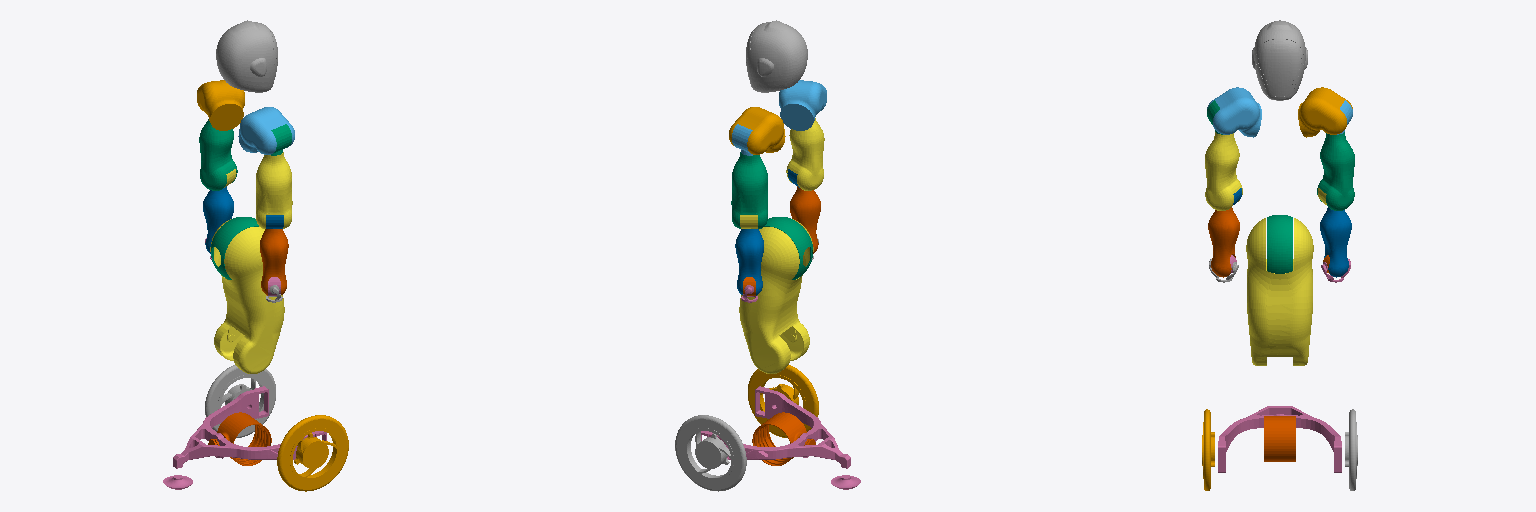
--- What the picture shows (computed from the rendered views, not written in the file) ---
The picture shows the robot from 3 angles, left to right: view 1: azimuth 30°, elevation 25°; view 2: azimuth 150°, elevation 25°; view 3: azimuth 270°, elevation 25°; orthographic projection.
Robot: Eve_base — 24 links, 23 joints (21 revolute, 2 fixed); root link base; default pose: joints at zero except 2 at the middle of their limits (j_r_shoulder_z = 1.09, j_l_shoulder_z = -1.09).
Links seen in each view (by area): view 1: thigh, r_wheel, head, base, r_upper_arm, l_wheel, l_upper_arm, l_scapula, r_scapula, r_lower_arm, ankle_y_link, l_lower_arm (+1 smaller); view 2: thigh, l_wheel, head, base, l_upper_arm, r_wheel, r_upper_arm, r_scapula, l_scapula, l_lower_arm, ankle_y_link, r_lower_arm (+1 smaller); view 3: thigh, head, l_upper_arm, r_upper_arm, base, r_scapula, l_scapula, r_lower_arm, l_lower_arm, hip_x_link, ankle_y_link, l_wheel (+1 smaller).
Boxes of the visible links, left/top/right/bottom form: thigh: left=210, top=219, right=284, bottom=373; r_wheel: left=277, top=415, right=348, bottom=491; head: left=216, top=20, right=277, bottom=92; base: left=163, top=386, right=326, bottom=489; r_upper_arm: left=256, top=152, right=292, bottom=228; l_wheel: left=205, top=365, right=275, bottom=437; l_upper_arm: left=199, top=119, right=237, bottom=190; l_scapula: left=197, top=80, right=244, bottom=130; r_scapula: left=238, top=107, right=294, bottom=154; r_lower_arm: left=260, top=229, right=288, bottom=295; ankle_y_link: left=208, top=412, right=271, bottom=465; l_lower_arm: left=203, top=186, right=233, bottom=253; thigh: left=739, top=219, right=813, bottom=373; l_wheel: left=675, top=415, right=746, bottom=491; head: left=746, top=20, right=807, bottom=92; base: left=701, top=386, right=860, bottom=489; l_upper_arm: left=731, top=152, right=767, bottom=228; r_wheel: left=748, top=365, right=818, bottom=437; r_upper_arm: left=786, top=118, right=824, bottom=190; r_scapula: left=779, top=80, right=826, bottom=130; l_scapula: left=729, top=107, right=785, bottom=154; l_lower_arm: left=735, top=229, right=763, bottom=295; ankle_y_link: left=752, top=412, right=815, bottom=465; r_lower_arm: left=790, top=186, right=820, bottom=253; thigh: left=1246, top=218, right=1313, bottom=365; head: left=1252, top=20, right=1307, bottom=100; l_upper_arm: left=1317, top=132, right=1354, bottom=210; r_upper_arm: left=1205, top=132, right=1242, bottom=210; base: left=1218, top=406, right=1341, bottom=472; r_scapula: left=1207, top=87, right=1261, bottom=137; l_scapula: left=1298, top=87, right=1352, bottom=137; r_lower_arm: left=1208, top=207, right=1239, bottom=277; l_lower_arm: left=1320, top=207, right=1351, bottom=277; hip_x_link: left=1267, top=215, right=1292, bottom=273; ankle_y_link: left=1264, top=416, right=1295, bottom=461; l_wheel: left=1345, top=409, right=1357, bottom=490.
Bounding box of the posed robot: 0.6336 × 0.5797 × 1.84 m (x, y, z).
Meshes: 16 distinct files referenced, 21 mesh visuals loaded (13 OBJ); not drawn: 3 (reference not matched to a file when rendering).

The robot description file, URDF, robot "Eve_base":
<?xml version="1.0" encoding="UTF-8" standalone="yes"?>
<robot xmlns:ns2="http://www.ros.org" xmlns:xi="http://www.w3.org/2003/XInclude" name="Eve_base">

  <link name="pelvis">
    <inertial>
      <origin xyz="-0.01035145 -0.00576441 0.41289202" rpy="0.0 0.0 0.0"/>
      <mass value="10.11628645"/>
      <inertia ixx="0.16934147" ixy="1.49E-4" ixz="0.00652485" iyy="0.1566806" iyz="-0.00748297" izz="0.05486492"/>
    </inertial>
    <visual>
      <origin xyz="0.0 0.0 0.0" rpy="1.5707963 0.0 1.5707963"/>
      <geometry>
        <mesh filename="package://eve/meshes/7dof_torso.obj" scale="1 1 1"/>
      </geometry>
    </visual>
    <collision>
      <origin xyz="0.0 0.0 0.0" rpy="1.5707963 0.0 1.5707963"/>
      <geometry>
        <sphere radius="0.12"/>
      </geometry>
    </collision>
  </link>
  <joint name="j_hip_z" type="revolute">
    <origin xyz="0.0 0.0 0.0" rpy="0.0 0.0 0.0"/>
    <parent link="abdomen"/>
    <child link="pelvis"/>
    <axis xyz="0.0 0.0 -1.0"/>
    <limit lower="-1.0472" upper="1.0472" effort="-1.0" velocity="1.0"/>
  </joint>
  <transmission name="j_hip_z_trans">
	  <type>SimpleTransmission</type>
	  <joint name="j_hip_z">
	    <hardwareInterface>EffortJointInterface</hardwareInterface>
	  </joint>
	  <actuator name="j_hip_z_actuator">
	  </actuator>
  </transmission>
  <gazebo reference="pelvis">
    <sensor name="imu_sensor" type="imu">
      <always_on>1</always_on>
      <update_rate>1000</update_rate>
      <imu>
        <noise>
          <type>gaussian</type>
          <rate>
            <mean>0</mean>
            <stddev>0.0002</stddev>
            <bias_mean>7.5e-06</bias_mean>
            <bias_stddev>8e-07</bias_stddev>
          </rate>
          <accel>
            <mean>0</mean>
            <stddev>0.017</stddev>
            <bias_mean>0.1</bias_mean>
            <bias_stddev>0.001</bias_stddev>
          </accel>
        </noise>
      </imu>
      <pose frame="">0.0 0.0 0.142 0 0.0 0</pose>
    </sensor>
  </gazebo>

  <link name="abdomen">
    <inertial>
      <origin xyz="-0.05558735 0.00156974 0.13110756" rpy="0.0 0.0 0.0"/>
      <mass value="3.4381772"/>
      <inertia ixx="0.05607222" ixy="7.0118E-4" ixz="-0.01468099" iyy="0.05435718" iyz="-0.00188443" izz="0.02016737"/>
    </inertial>
    <visual>
      <origin xyz="0.0 0.0 0.0" rpy="1.5707963 0.0 1.5707963"/>
      <geometry>
        <mesh filename="package://eve/meshes/abdomen.obj" scale="1 1 1"/>
      </geometry>
    </visual>
  </link>
  <joint name="j_hip_x" type="revolute">
    <origin xyz="0.0 0.0 0.0" rpy="0.0 0.0 0.0"/>
    <parent link="hip_x_link"/>
    <child link="abdomen"/>
    <axis xyz="1.0 0.0 0.0"/>
    <limit lower="-0.523599" upper="0.523599" effort="-1.0" velocity="1.0"/>
  </joint>
  <transmission name="j_hip_x_trans">
    <type>SimpleTransmission</type>
    <joint name="j_hip_x">
      <hardwareInterface>EffortJointInterface</hardwareInterface>
    </joint>
    <actuator name="j_hip_x_actuator">
    </actuator>
  </transmission>
  <link name="hip_x_link">
    <inertial>
      <origin xyz="-0.013462 -0.001267 -7.7E-5" rpy="0.0 0.0 0.0"/>
      <mass value="2.868669"/>
      <inertia ixx="0.013678" ixy="5.6E-5" ixz="-7.6E-4" iyy="0.014884" iyz="1.4E-5" izz="0.016484"/>
    </inertial>
    <visual>
      <origin xyz="0.0 0.0 0.0" rpy="1.5707963 0.0 1.5707963"/>
      <geometry>
        <mesh filename="package://eve/meshes/hip.obj" scale="1 1 1"/>
      </geometry>
    </visual>
  </link>
  <joint name="j_hip_y" type="revolute">
    <origin xyz="0.0 0.0 0.4" rpy="0.0 0.0 0.0"/>
    <parent link="thigh"/>
    <child link="hip_x_link"/>
    <axis xyz="0.0 1.0 0.0"/>
    <limit lower="-1.57" upper="0.174533" effort="-1.0" velocity="1.0"/>
  </joint>
  <transmission name="j_hip_y_trans">
    <type>SimpleTransmission</type>
    <joint name="j_hip_y">
      <hardwareInterface>EffortJointInterface</hardwareInterface>
    </joint>
    <actuator name="j_hip_y_actuator">
    </actuator>
  </transmission>
  <link name="thigh">
    <inertial>
      <!-- <origin xyz="0.048668 0.002117 -0.216367" rpy="0.0 0.0 0.0"/> -->
      <origin xyz="0.048668 0.002117 0.183633" rpy="0.0 0.0 0.0"/>
      <mass value="12.846698"/>
      <inertia ixx="0.172201" ixy="-0.001348" ixz="0.012646" iyy="0.155119" iyz="-6.0E-4" izz="0.076153"/>
    </inertial>
    <visual>
      <origin xyz="0.0 0.0 0.4" rpy="1.5707963 0.0 1.5707963"/>
      <geometry>
        <mesh filename="package://eve/meshes/thigh.obj" scale="1 1 1"/>
      </geometry>
    </visual>
  </link>
  <joint name="j_knee_y" type="revolute">
    <!-- <origin xyz="0.0 0.0 -0.4" rpy="0.0 0.0 0.0"/> -->
    <origin xyz="0.0 0.0 0.38" rpy="0.0 0.0 0.0"/>
    <parent link="shin"/>
    <child link="thigh"/>
    <axis xyz="0.0 1.0 0.0"/>
    <limit lower="0.0" upper="2.583" effort="-1.0" velocity="1.0"/>
  </joint>
  <transmission name="j_knee_y_trans">
    <type>SimpleTransmission</type>
    <joint name="j_knee_y">
      <hardwareInterface>EffortJointInterface</hardwareInterface>
    </joint>
    <actuator name="j_knee_y_actuator">
    </actuator>
  </transmission>
  <link name="shin">
    <inertial>
      <!-- <origin xyz="0.019484 6.7E-5 -0.167324" rpy="0.0 0.0 0.0"/> -->
      <origin xyz="0.019484 6.7E-5 0.212676" rpy="0.0 0.0 0.0"/>
      <mass value="10.894892"/>
      <inertia ixx="0.191988" ixy="-2.08E-4" ixz="0.005202" iyy="0.176793" iyz="-3.45E-4" izz="0.049718"/>
    </inertial>
    <visual>
      <origin xyz="0.0 0.0 0.38" rpy="1.5707963 0.0 1.5707963"/>
      <geometry>
        <mesh filename="package://eve/meshes/shin.obj" scale="1 1 1"/>
      </geometry>
    </visual>
  </link>
  <joint name="j_ankle_y" type="revolute">
    <!-- <origin xyz="0.0 0.0 -0.38" rpy="0.0 0.0 0.0"/> -->
    <origin xyz="0.0 0.0 0.0" rpy="0.0 0.0 0.0"/>
    <parent link="ankle_y_link"/>
    <child link="shin"/>
    <axis xyz="0.0 1.0 0.0"/>
    <limit lower="-0.174533" upper="1.57" effort="1.0" velocity="1.0"/>
  </joint>
  <transmission name="j_ankle_y_trans">
    <type>SimpleTransmission</type>
    <joint name="j_ankle_y">
      <hardwareInterface>EffortJointInterface</hardwareInterface>
    </joint>
    <actuator name="j_ankle_y_actuator">
    </actuator>
  </transmission>
  <link name="ankle_y_link">
    <inertial>
      <origin xyz="-0.017821 0.001497 -6.49E-4" rpy="0.0 0.0 0.0"/>
      <mass value="2.656189"/>
      <inertia ixx="0.010249" ixy="-8.2E-5" ixz="2.65E-4" iyy="0.009117" iyz="9.0E-6" izz="0.013843"/>
    </inertial>
    <visual>
      <origin xyz="0.0 0.0 0.0" rpy="1.5707963 0.0 1.5707963"/>
      <geometry>
        <mesh filename="package://eve/meshes/ankle.obj" scale="1 1 1"/>
      </geometry>
    </visual>
  </link>
  <joint name="j_ankle_x" type="revolute">
    <origin xyz="0.0 0.0 0.0" rpy="0.0 0.0 0.0"/>
    <parent link="base"/>
    <child link="ankle_y_link"/>
    <axis xyz="1.0 0.0 0.0"/>
    <limit lower="-0.523599" upper="0.523599" effort="1.0" velocity="1.0"/>
  </joint>
  <transmission name="j_ankle_x_trans">
    <type>SimpleTransmission</type>
    <joint name="j_ankle_x">
      <hardwareInterface>EffortJointInterface</hardwareInterface>
    </joint>
    <actuator name="j_ankle_x_actuator">
    </actuator>
  </transmission>
  <link name="base">
    <inertial>
      <origin xyz="0.021997 0.006327 -0.006204" rpy="0.0 0.0 0.0"/>
      <mass value="13.647499"/>
      <inertia ixx="0.461101" ixy="-0.004042" ixz="-0.020010" iyy="0.246583" iyz="-0.000110" izz="0.679520"/>
    </inertial>
    <visual>
      <origin xyz="0.0 0.0 0.0" rpy="1.5707963 0.0 1.5707963"/>
      <geometry>
        <mesh filename="package://eve/meshes/base_wheels.obj" scale="1 1 1"/>
        <!-- <box size=".5 .15 .5" /> -->
      </geometry>
    </visual>
    <collision>
      <origin xyz="-0.28 0.0 -0.08" rpy="1.5707963 0.0 1.5707963"/>
      <geometry>
        <sphere radius="0.05"/>
      </geometry>
    </collision>
    <collision>
      <origin xyz="0.0 0.0 0.0" rpy="1.5707963 0.0 1.5707963"/>
      <geometry>
        <!-- <mesh filename="package://eve/meshes/base_wheels.obj" scale="1 1 1"/> -->
        <box size=".4 .15 .6" />
      </geometry>
    </collision>
  </link>


  <joint name="j_l_wheel_y" type="fixed">
    <origin xyz="0.142 0.26983 0.019" rpy="0.0 0.0 0.0"/>
    <parent link="base"/>
    <child link="l_wheel"/>
    <axis xyz="0.0 1.0 0.0"/>
    <limit lower="-1.0E16" upper="1.0E16" effort="-1.0" velocity="1.0"/>
  </joint>
<!--  <transmission name="j_l_wheel_y_trans">-->
<!--    <type>SimpleTransmission</type>-->
<!--    <joint name="j_l_wheel_y">-->
<!--      <hardwareInterface>EffortJointInterface</hardwareInterface>-->
<!--    </joint>-->
<!--    <actuator name="j_l_wheel_y_actuator">-->
<!--    </actuator>-->
<!--  </transmission>-->
  <link name="l_wheel">
    <inertial>
      <origin xyz="0.0 0.0 0.0" rpy="0.0 0.0 0.0"/>
      <mass value="1.52693"/>
      <inertia ixx="0.007129" ixy="-0.0" ixz="-0.0" iyy="0.013685" iyz="-0.0" izz="0.007131"/>
    </inertial>
    <visual>
      <origin xyz="0.0 0.0 0.0" rpy="1.5707963 0.0 -1.5707963"/>
      <geometry>
        <mesh filename="package://eve/meshes/wheel.obj" scale="1 1 1"/>
        <!-- <cylinder length="0.02" radius="0.14"/> -->
      </geometry>
    </visual>
    <collision>
      <origin xyz="0.0 0.0 0.0" rpy="1.5707963 0.0 0.0"/>
      <geometry>
        <!-- <mesh filename="package://eve/meshes/wheel.obj" scale="1 1 1"/> -->
        <cylinder length="0.02" radius="0.14"/>
      </geometry>
    </collision>
  </link>
  <joint name="j_r_wheel_y" type="fixed">
    <origin xyz="0.142 -0.26983 0.019" rpy="0.0 0.0 0.0"/>
    <parent link="base"/>
    <child link="r_wheel"/>
    <axis xyz="0.0 1.0 0.0"/>
    <limit lower="-1.0E16" upper="1.0E16" effort="-1.0" velocity="1.0"/>
  </joint>
<!--  <transmission name="j_r_wheel_y_trans">-->
<!--    <type>SimpleTransmission</type>-->
<!--    <joint name="j_r_wheel_y">-->
<!--      <hardwareInterface>EffortJointInterface</hardwareInterface>-->
<!--    </joint>-->
<!--    <actuator name="j_r_wheel_y_actuator">-->
<!--    </actuator>-->
<!--  </transmission>-->
  <link name="r_wheel">
    <inertial>
      <origin xyz="0.0 0.0 0.0" rpy="0.0 0.0 0.0"/>
      <mass value="1.52693"/>
      <inertia ixx="0.007129" ixy="-0.0" ixz="-0.0" iyy="0.013685" iyz="-0.0" izz="0.007131"/>
    </inertial>
    <visual>
      <origin xyz="0.0 0.0 0.0" rpy="1.5707963 0.0 1.5707963"/>
      <geometry>
        <mesh filename="package://eve/meshes/wheel.obj" scale="1 1 1"/>
        <!-- <cylinder length="0.02" radius="0.14"/> -->
      </geometry>
    </visual>
    <collision>
      <origin xyz="0.0 0.0 0.0" rpy="1.5707963 0.0 0.0"/>
      <geometry>
        <cylinder length="0.02" radius="0.14"/>
        <!-- <mesh filename="package://eve/meshes/wheel.obj" scale="1 1 1"/> -->
      </geometry>
    </collision>
  </link>



  <joint name="j_r_shoulder_y" type="revolute">
    <origin xyz="0.010525 -0.207221 0.545525" rpy="-0.253261563 0.0 0.261799"/>
    <parent link="pelvis"/>
    <child link="r_scapula"/>
    <axis xyz="0.0 1.0 0.0"/>
    <limit lower="-2.4240878" upper="0.981049573" effort="-1.0" velocity="1.0"/>
  </joint>
  <transmission name="j_r_shoulder_y_trans">
    <type>SimpleTransmission</type>
    <joint name="j_r_shoulder_y">
      <hardwareInterface>EffortJointInterface</hardwareInterface>
    </joint>
    <actuator name="j_r_shoulder_y_actuator">
    </actuator>
  </transmission>
  <link name="r_scapula">
    <inertial>
      <origin xyz="6.1099E-4 0.06306661 0.03032448" rpy="0.0 0.0 0.0"/>
      <mass value="2.75566786"/>
      <inertia ixx="0.00936557" ixy="2.264E-5" ixz="-7.112E-5" iyy="0.01079015" iyz="8.423E-4" izz="0.01267759"/>
    </inertial>
    <visual>
      <origin xyz="0.0 0.0 0.0" rpy="1.5707963 1.5707963 0.0"/>
      <geometry>
        <mesh filename="../meshes/7dof_scapula.obj" scale="1 1 1"/>
      </geometry>
    </visual>
  </link>
  <joint name="j_r_shoulder_x" type="revolute">
    <origin xyz="0.0 0.0 0.0" rpy="0.253261563 0.0 0.0"/>
    <parent link="r_scapula"/>
    <child link="r_shoulder"/>
    <axis xyz="1.0 0.0 0.0"/>
    <limit lower="-2.0943951" upper="0.0872665" effort="-1.0" velocity="1.0"/>
  </joint>
  <transmission name="j_r_shoulder_x_trans">
    <type>SimpleTransmission</type>
    <joint name="j_r_shoulder_x">
      <hardwareInterface>EffortJointInterface</hardwareInterface>
    </joint>
    <actuator name="j_r_shoulder_x_actuator">
    </actuator>
  </transmission>
  <link name="r_shoulder">
    <inertial>
      <origin xyz="0.0 -7.0614E-4 -0.01975465" rpy="0.0 0.0 0.0"/>
      <mass value="0.70264272"/>
      <inertia ixx="0.00115475" ixy="-3.2E-7" ixz="-1.4E-7" iyy="0.00143713" iyz="2.63E-6" izz="9.4633E-4"/>
    </inertial>
    <visual>
      <origin xyz="0.0 0.0 0.0" rpy="1.5708 0 0"/>
      <geometry>
        <mesh filename="../meshes/7dof_shoulder.obj" scale="1 1 1"/>
      </geometry>
    </visual>
  </link>
  <joint name="j_r_shoulder_z" type="revolute">
    <origin xyz="0.0 0.0 0.0" rpy="0.0 0.0 -0.261799"/>
    <parent link="r_shoulder"/>
    <child link="r_upper_arm"/>
    <axis xyz="0.0 0.0 1.0"/>
    <limit lower="0.0872665" upper="2.0943951" effort="-1.0" velocity="1.0"/>
  </joint>
  <transmission name="j_r_shoulder_z_trans">
    <type>SimpleTransmission</type>
    <joint name="j_r_shoulder_z">
      <hardwareInterface>EffortJointInterface</hardwareInterface>
    </joint>
    <actuator name="j_r_shoulder_z_actuator">
    </actuator>
  </transmission>
  <link name="r_upper_arm">
    <inertial>
      <origin xyz="-0.0062579 3.507E-5 -0.17187666" rpy="0.0 0.0 0.0"/>
      <mass value="2.92531724"/>
      <inertia ixx="0.01341653" ixy="-6.4E-7" ixz="-2.9063E-4" iyy="0.01287847" iyz="-3.08E-6" izz="0.00487381"/>
    </inertial>
    <visual>
      <origin xyz="0.0 0.0 -0.314" rpy="1.5707963 0.0 1.5707963"/>
      <geometry>
        <mesh filename="../meshes/7dof_upper_arm.obj" scale="1 1 1"/>
      </geometry>
    </visual>
  </link>
  <joint name="j_r_elbow_y" type="revolute">
    <origin xyz="0.0 0.0 -0.313989" rpy="0.0 0.0 0.0"/>
    <parent link="r_upper_arm"/>
    <child link="r_elbow"/>
    <axis xyz="0.0 1 0.0"/>
    <limit lower="-2.18166" upper="0.0" effort="-1.0" velocity="1.0"/>
  </joint>
  <transmission name="j_r_elbow_y_trans">
    <type>SimpleTransmission</type>
    <joint name="j_r_elbow_y">
      <hardwareInterface>EffortJointInterface</hardwareInterface>
    </joint>
    <actuator name="j_r_elbow_y_actuator">
    </actuator>
  </transmission>
  <link name="r_elbow">
    <inertial>
      <origin xyz="5.494E-5 0.0 -0.00888504" rpy="0.0 0.0 0.0"/>
      <mass value="0.46261553"/>
      <inertia ixx="8.227E-4" ixy="-0.0" ixz="9.6E-7" iyy="3.6441E-4" iyz="-0.0" izz="6.1472E-4"/>
    </inertial>
    <visual>
      <origin xyz="0.0 0.0 0.0" rpy="1.5707963 0.0 1.5707963"/>
      <geometry>
        <mesh filename="../meshes/7dof_elbow.obj" scale="1 1 1"/>
      </geometry>
    </visual>
    <collision>
      <origin xyz="0.0 0.0 0.0" rpy="1.5707963 0.0 1.5707963"/>
      <geometry>
        <sphere radius="0.07"/>
      </geometry>
    </collision>
  </link>
  <joint name="j_r_elbow_z" type="revolute">
    <origin xyz="0.0 0.0 0.0" rpy="0.0 0.0 0.0"/>
    <parent link="r_elbow"/>
    <child link="r_lower_arm"/>
    <axis xyz="0.0 0.0 1"/>
    <limit lower="-0.7854" upper="1.5708" effort="-1.0" velocity="1.0"/>
  </joint>
  <transmission name="j_r_elbow_z_trans">
    <type>SimpleTransmission</type>
    <joint name="j_r_elbow_z">
      <hardwareInterface>EffortJointInterface</hardwareInterface>
    </joint>
    <actuator name="j_r_elbow_z_actuator">
    </actuator>
  </transmission>
  <link name="r_lower_arm">
    <inertial>
      <origin xyz="-4.326E-5 3.091E-5 -0.13751046" rpy="0.0 0.0 0.0"/>
      <mass value="1.63933464"/>
      <inertia ixx="0.00678741" ixy="1.11E-6" ixz="-1.253E-5" iyy="0.00706746" iyz="1.485E-5" izz="0.00183806"/>
    </inertial>
    <visual>
      <origin xyz="0.0 0.0 -0.292850" rpy="1.5707963 0.0 1.5707963"/>
      <geometry>
        <mesh filename="../meshes/7dof_forearm.obj" scale="1 1 1"/>
      </geometry>
    </visual>
  </link>
  <joint name="j_r_wrist_y" type="revolute">
    <origin xyz="0.0 0.0 -0.292850" rpy="0.0 0.0 0.0"/>
    <parent link="r_lower_arm"/>
    <child link="r_wrist"/>
    <axis xyz="0.0 1 0.0"/>
    <limit lower="-0.785398" upper="0.785398" effort="-1.0" velocity="1.0"/>
  </joint>
  <transmission name="j_r_wrist_y_trans">
    <type>SimpleTransmission</type>
    <joint name="j_r_wrist_y">
      <hardwareInterface>EffortJointInterface</hardwareInterface>
    </joint>
    <actuator name="j_r_wrist_y_actuator">
    </actuator>
  </transmission>
  <link name="r_wrist">
    <inertial>
      <origin xyz="0.00240142 7.9666E-4 -0.00125392" rpy="0.0 0.0 0.0"/>
      <mass value="0.30363399"/>
      <inertia ixx="1.8188E-4" ixy="2.27E-6" ixz="-2.16E-6" iyy="1.6139E-4" iyz="-9.5E-7" izz="2.7335E-4"/>
    </inertial>
    <visual>
      <origin xyz="0.0 0.0 0.0" rpy="1.5707963 0.0 1.5707963"/>
      <geometry>
        <mesh filename="../meshes/7dof_wrist.obj" scale="1 1 1"/>
      </geometry>
    </visual>
  </link>
  <joint name="j_r_wrist_x" type="revolute">
    <origin xyz="0.0 0.0 0.0" rpy="0.0 0.0 0.0"/>
    <parent link="r_wrist"/>
    <child link="r_palm"/>
    <axis xyz="1 0.0 0.0"/>
    <limit lower="-0.523599" upper="1.5708" effort="-1.0" velocity="1.0"/>
  </joint>
  <transmission name="j_r_wrist_x_trans">
    <type>SimpleTransmission</type>
    <joint name="j_r_wrist_x">
      <hardwareInterface>EffortJointInterface</hardwareInterface>
    </joint>
    <actuator name="j_r_wrist_x_actuator">
    </actuator>
  </transmission>
  <link name="r_palm">
    <inertial>
      <origin xyz="0.00618476 -0.00346679 -0.01888817" rpy="0.0 0.0 0.0"/>
      <mass value="0.1486378"/>
      <inertia ixx="1.177E-4" ixy="-2.72E-6" ixz="-1.656E-5" iyy="2.8407E-4" iyz="-5.49E-6" izz="2.1805E-4"/>
    </inertial>
    <visual>
      <origin xyz="0.0 0.0 0.0" rpy="-1.5707963 0.0 0.0"/>
      <geometry>
        <mesh filename="../meshes/7dof_palm.obj" scale="1 1 1"/>
      </geometry>
    </visual>
    <collision>
      <origin xyz="0.0 0.0 0.0" rpy="-1.5707963 0.0 3.14159"/>
      <geometry>
        <sphere radius="0.05"/>
      </geometry>
    </collision>
  </link>


  <joint name="j_l_shoulder_y" type="revolute">
    <origin xyz="0.010525 0.207221 0.545525" rpy="0.253261563 0.0 -0.261799"/>
    <parent link="pelvis"/>
    <child link="l_scapula"/>
    <axis xyz="0.0 1.0 0.0"/>
    <limit lower="-2.4240878" upper="0.981049573" effort="-1.0" velocity="1.0"/>
  </joint>
  <transmission name="j_l_shoulder_y_trans">
    <type>SimpleTransmission</type>
    <joint name="j_l_shoulder_y">
      <hardwareInterface>EffortJointInterface</hardwareInterface>
    </joint>
    <actuator name="j_l_shoulder_y_actuator">
    </actuator>
  </transmission>
  <link name="l_scapula">
    <inertial>
      <origin xyz="-6.1099E-4 -0.06306661 0.03032448" rpy="0.0 0.0 0.0"/>
      <mass value="2.75566786"/>
      <inertia ixx="0.00936557" ixy="2.264E-5" ixz="7.112E-5" iyy="0.01079015" iyz="-8.423E-4" izz="0.01267759"/>
    </inertial>
    <visual>
      <origin xyz="0.0 0.0 0.0" rpy="0.0 1.5707963 1.5707963"/>
      <geometry>
        <mesh filename="../meshes/7dof_scapula.obj" scale="1 1 1"/>
      </geometry>
    </visual>
  </link>
  <joint name="j_l_shoulder_x" type="revolute">
    <origin xyz="0.0 0.0 0.0" rpy="-0.253261563 0.0 0.0"/>
    <parent link="l_scapula"/>
    <child link="l_shoulder"/>
    <axis xyz="1.0 0.0 0.0"/>
    <limit lower="-0.0872665" upper="2.0943951" effort="-1.0" velocity="1.0"/>
  </joint>
  <transmission name="j_l_shoulder_x_trans">
    <type>SimpleTransmission</type>
    <joint name="j_l_shoulder_x">
      <hardwareInterface>EffortJointInterface</hardwareInterface>
    </joint>
    <actuator name="j_l_shoulder_x_actuator">
    </actuator>
  </transmission>
  <link name="l_shoulder">
    <inertial>
      <origin xyz="0.0 7.0624E-4 -0.01975437" rpy="0.0 0.0 0.0"/>
      <mass value="0.70265653"/>
      <inertia ixx="0.00115475" ixy="-3.2E-7" ixz="1.3E-7" iyy="0.00143715" iyz="-2.63E-6" izz="9.4634E-4"/>
    </inertial>
    <visual>
      <origin xyz="0.0 0.0 0.0" rpy="1.5708 0.0 0.0"/>
      <geometry>
        <mesh filename="../meshes/7dof_shoulder.obj" scale="1 1 1"/>
      </geometry>
    </visual>
  </link>
  <joint name="j_l_shoulder_z" type="revolute">
    <origin xyz="0.0 0.0 0.0" rpy="0.0 0.0 0.261799"/>
    <parent link="l_shoulder"/>
    <child link="l_upper_arm"/>
    <axis xyz="0.0 0.0 1.0"/>
    <limit lower="-2.0943951" upper="-0.0872665" effort="-1.0" velocity="1.0"/>
  </joint>
  <transmission name="j_l_shoulder_z_trans">
    <type>SimpleTransmission</type>
    <joint name="j_l_shoulder_z">
      <hardwareInterface>EffortJointInterface</hardwareInterface>
    </joint>
    <actuator name="j_l_shoulder_z_actuator">
    </actuator>
  </transmission>
  <link name="l_upper_arm">
    <inertial>
      <origin xyz="-0.0062579 3.507E-5 -0.17187666" rpy="0.0 0.0 0.0"/>
      <mass value="2.92531724"/>
      <inertia ixx="0.01341653" ixy="-6.4E-7" ixz="-2.9063E-4" iyy="0.01287847" iyz="-3.08E-6" izz="0.00487381"/>
    </inertial>
    <visual>
      <origin xyz="0.0 0.0 -0.314" rpy="1.5707963 0.0 1.5707963"/>
      <geometry>
        <mesh filename="../meshes/7dof_upper_arm.obj" scale="1 1 1"/>
      </geometry>
    </visual>
  </link>
  <joint name="j_l_elbow_y" type="revolute">
    <origin xyz="0.0 0.0 -0.313989" rpy="0.0 0.0 0.0"/>
    <parent link="l_upper_arm"/>
    <child link="l_elbow"/>
    <axis xyz="0.0 1.0 0.0"/>
    <limit lower="-2.18166" upper="0.0" effort="-1.0" velocity="1.0"/>
  </joint>
  <transmission name="j_l_elbow_y_trans">
    <type>SimpleTransmission</type>
    <joint name="j_l_elbow_y">
      <hardwareInterface>EffortJointInterface</hardwareInterface>
    </joint>
    <actuator name="j_l_elbow_y_actuator">
    </actuator>
  </transmission>
  <link name="l_elbow">
    <inertial>
      <origin xyz="5.494E-5 0.0 -0.00888504" rpy="0.0 0.0 0.0"/>
      <mass value="0.46261553"/>
      <inertia ixx="8.227E-4" ixy="-0.0" ixz="9.6E-7" iyy="3.6441E-4" iyz="-0.0" izz="6.1472E-4"/>
    </inertial>
    <visual>
      <origin xyz="0.0 0.0 0.0" rpy="1.5707963 0.0 1.5707963"/>
      <geometry>
        <mesh filename="../meshes/7dof_elbow.obj" scale="1 1 1"/>
      </geometry>
    </visual>
    <collision>
      <origin xyz="0.0 0.0 0.0" rpy="1.5707963 0.0 1.5707963"/>
      <geometry>
        <sphere radius="0.07"/>
      </geometry>
    </collision>
  </link>
  <joint name="j_l_elbow_z" type="revolute">
    <origin xyz="0.0 0.0 0.0" rpy="0.0 0.0 0.0"/>
    <parent link="l_elbow"/>
    <child link="l_lower_arm"/>
    <axis xyz="0.0 0.0 1.0"/>
    <limit lower="-1.5708" upper="0.7854" effort="-1.0" velocity="1.0"/>
  </joint>
  <transmission name="j_l_elbow_z_trans">
    <type>SimpleTransmission</type>
    <joint name="j_l_elbow_z">
      <hardwareInterface>EffortJointInterface</hardwareInterface>
    </joint>
    <actuator name="j_l_elbow_z_actuator">
    </actuator>
  </transmission>
  <link name="l_lower_arm">
    <inertial>
      <origin xyz="-4.326E-5 3.091E-5 -0.13751046" rpy="0.0 0.0 0.0"/>
      <mass value="1.63933464"/>
      <inertia ixx="0.00678741" ixy="1.11E-6" ixz="-1.253E-5" iyy="0.00706746" iyz="1.485E-5" izz="0.00183806"/>
    </inertial>
    <visual>
      <origin xyz="0.0 0.0 -0.29285" rpy="1.5707963 0.0 1.5707963"/>
      <geometry>
        <mesh filename="../meshes/7dof_forearm.obj" scale="1 1 1"/>
      </geometry>
    </visual>
  </link>
  <joint name="j_l_wrist_y" type="revolute">
    <origin xyz="0.0 0.0 -0.29285" rpy="0.0 0.0 0.0"/>
    <parent link="l_lower_arm"/>
    <child link="l_wrist"/>
    <axis xyz="0.0 1.0 0.0"/>
    <limit lower="-0.785398" upper="0.785398" effort="-1.0" velocity="1.0"/>
  </joint>
  <transmission name="j_l_wrist_y_trans">
    <type>SimpleTransmission</type>
    <joint name="j_l_wrist_y">
      <hardwareInterface>EffortJointInterface</hardwareInterface>
    </joint>
    <actuator name="j_l_wrist_y_actuator">
    </actuator>
  </transmission>
  <link name="l_wrist">
    <inertial>
      <origin xyz="0.00240142 7.9666E-4 -0.00125392" rpy="0.0 0.0 0.0"/>
      <mass value="0.30363399"/>
      <inertia ixx="1.8188E-4" ixy="2.27E-6" ixz="-2.16E-6" iyy="1.6139E-4" iyz="-9.5E-7" izz="2.7335E-4"/>
    </inertial>
    <visual>
      <origin xyz="0.0 0.0 0.0" rpy="1.5707963 0.0 1.5707963"/>
      <geometry>
        <mesh filename="../meshes/7dof_wrist.obj" scale="1 1 1"/>
      </geometry>
    </visual>
  </link>
  <joint name="j_l_wrist_x" type="revolute">
    <origin xyz="0.0 0.0 0.0" rpy="0.0 0.0 0.0"/>
    <parent link="l_wrist"/>
    <child link="l_palm"/>
    <axis xyz="1.0 0.0 0.0"/>
    <limit lower="-1.5708" upper="0.523599" effort="-1.0" velocity="1.0"/>
  </joint>
  <transmission name="j_l_wrist_x_trans">
    <type>SimpleTransmission</type>
    <joint name="j_l_wrist_x">
      <hardwareInterface>EffortJointInterface</hardwareInterface>
    </joint>
    <actuator name="j_l_wrist_x_actuator">
    </actuator>
  </transmission>
  <link name="l_palm">
    <inertial>
      <origin xyz="0.00618476 -0.00346679 -0.01888817" rpy="0.0 0.0 0.0"/>
      <mass value="0.1486378"/>
      <inertia ixx="1.177E-4" ixy="-2.72E-6" ixz="-1.656E-5" iyy="2.8407E-4" iyz="-5.49E-6" izz="2.1805E-4"/>
    </inertial>
    <visual>
      <origin xyz="0.0 0.0 0.0" rpy="-1.5707963 0.0 3.14159"/>
      <geometry>
        <mesh filename="../meshes/7dof_palm.obj" scale="1 1 1"/>
      </geometry>
    </visual>
    <collision>
      <origin xyz="0.0 0.0 0.0" rpy="-1.5707963 0.0 3.14159"/>
      <geometry>
        <sphere radius="0.05"/>
      </geometry>
    </collision>
  </link>

  <joint name="j_neck_y" type="revolute">
    <origin xyz="-0.004458 0.0 0.680766" rpy="0.0 0.0 0.0"/>
    <parent link="pelvis"/>
    <child link="head"/>
    <axis xyz="0.0 1 0.0"/>
    <limit lower="-0.0872664626" upper="0.698132" effort="-1.0" velocity="1.0"/>
  </joint>
  <transmission name="j_neck_y_trans">
    <type>SimpleTransmission</type>
    <joint name="j_neck_y">
      <hardwareInterface>EffortJointInterface</hardwareInterface>
    </joint>
    <actuator name="j_neck_y_actuator">
    </actuator>
  </transmission>
  <link name="head">
    <inertial>
      <origin xyz="0.01272383 -0.00326913 0.07053205" rpy="0.0 0.0 0.0"/>
      <mass value="2.355"/>
      <inertia ixx="0.01719944" ixy="-8.079E-5" ixz="-0.0013284" iyy="0.0196904" iyz="2.3833E-4" izz="0.0077437"/>
    </inertial>
    <visual>
      <origin xyz="0.0 0.0 0.0" rpy="1.5707963 0.0 1.5707963"/>
      <geometry>
        <mesh filename="../meshes/head.obj" scale="1 1 1"/>
      </geometry>
    </visual>
    <collision>
      <origin xyz="0.0 0.0 0.1" rpy="1.5707963 0.0 1.5707963"/>
      <geometry>
        <sphere radius="0.12"/>
      </geometry>
    </collision>
  </link>
  <gazebo reference="head">
    <sensor name="realsense" type="camera">
      <camera>
        <image>
          <width>640</width>
          <height>480</height>
          <format>R8G8B8</format>
        </image>
        <horizontal_fov>1.487021</horizontal_fov>
        <clip>
          <near>0.2</near>
          <far>10</far>
        </clip>
      </camera>
      <update_rate>6</update_rate>
      <pose frame="">0.116669 0 0.17015 0 0.174533 0</pose>
    </sensor>
  </gazebo>

</robot>
